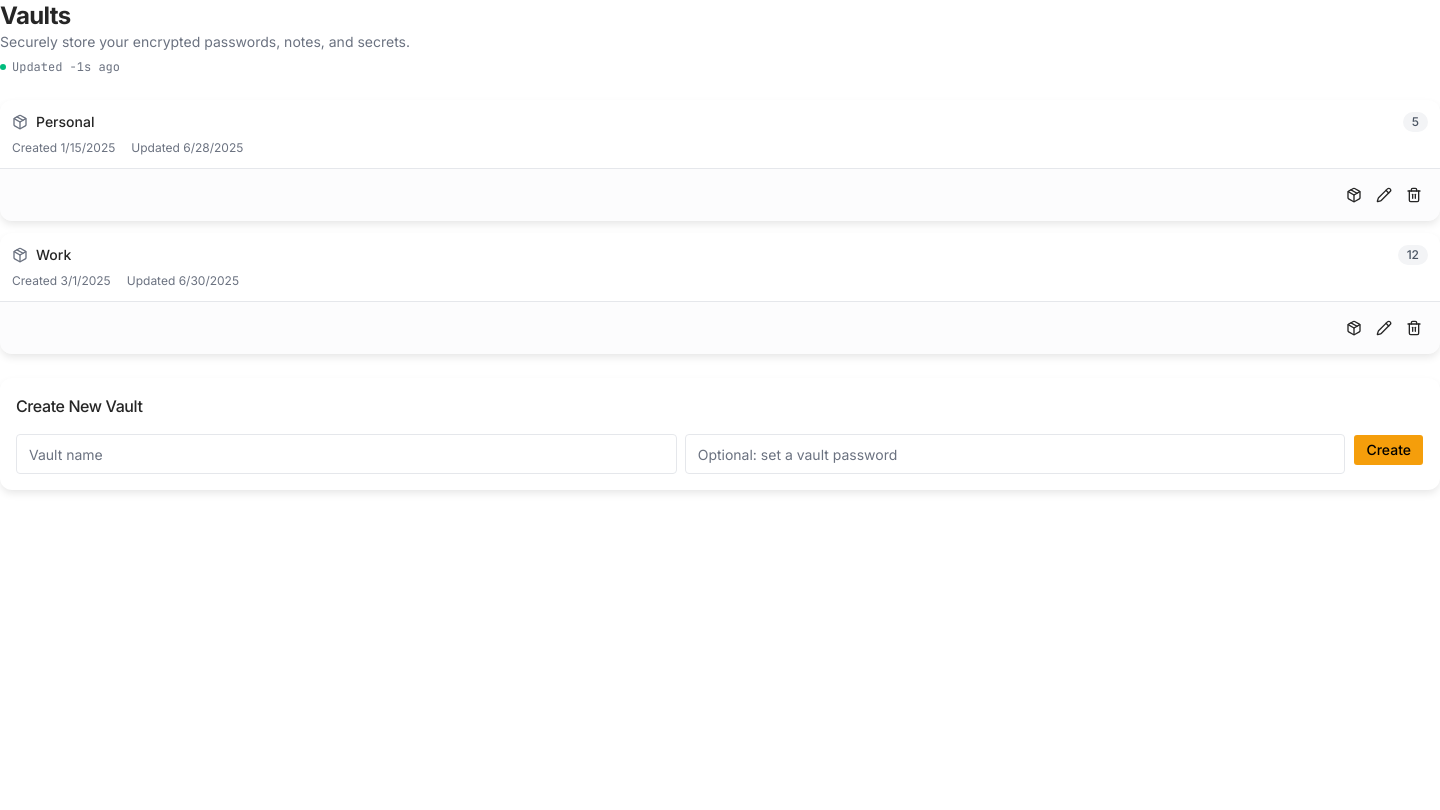
Test: VaultsPage › disable delete forever button until DELETE is typed
Expected: the text "Personal" is shown, [36,112,94,132]
Step 1. Click the 1st button named "Delete vault" → (1414, 195), box [1400,181,1428,209]
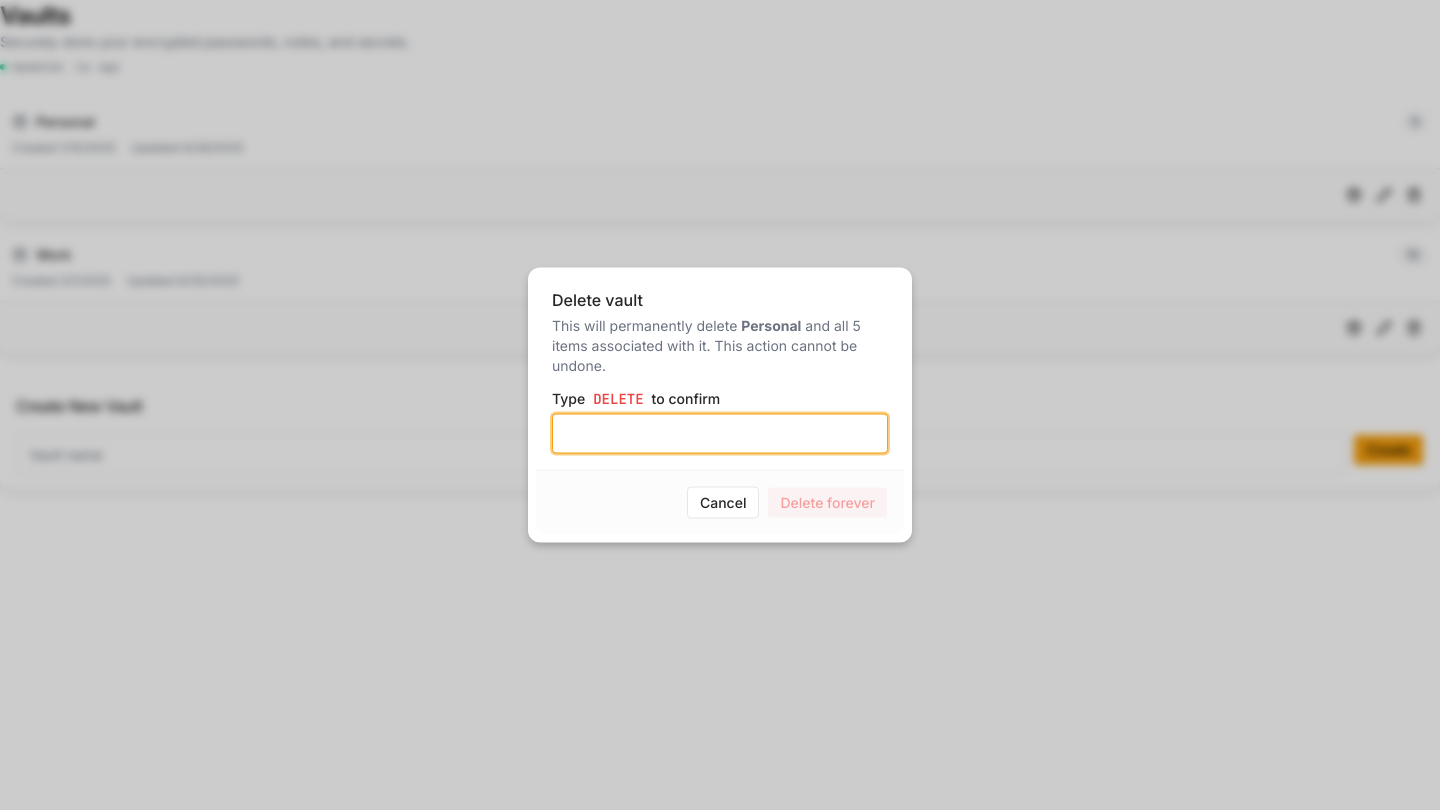
Result: the heading "Delete vault" is shown at [552,290,643,310]
Result: the button "Delete forever" is disabled at [767,486,888,518]
Step 2. Type "DELET" into the field labelled "Type DELETE to confirm" → (720, 434), box [552,414,888,454]
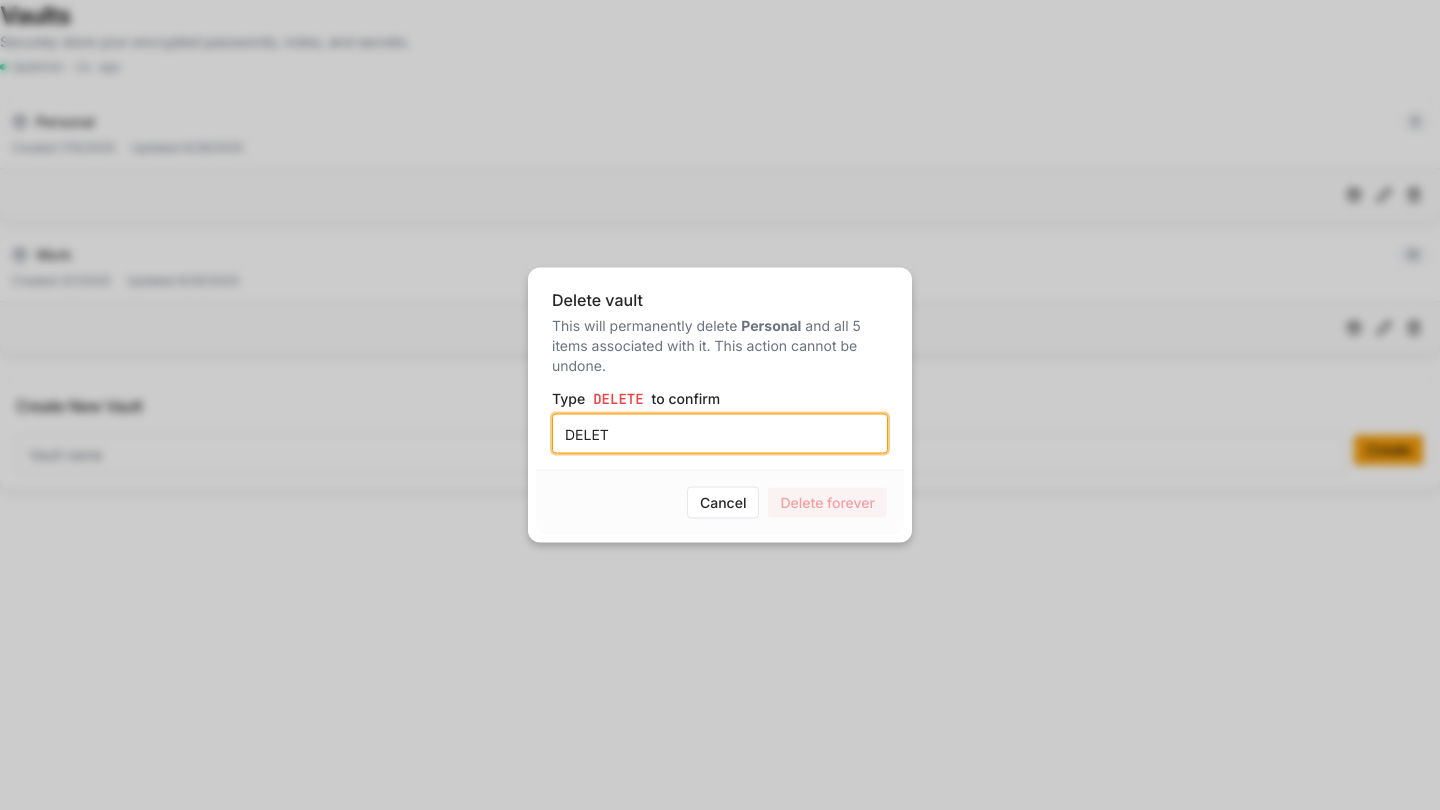
Result: the button "Delete forever" is disabled at [767,486,888,518]
Step 3. Replace the text in the field labelled "Type DELETE to confirm" with "DELETE" → (720, 434), box [552,414,888,454]
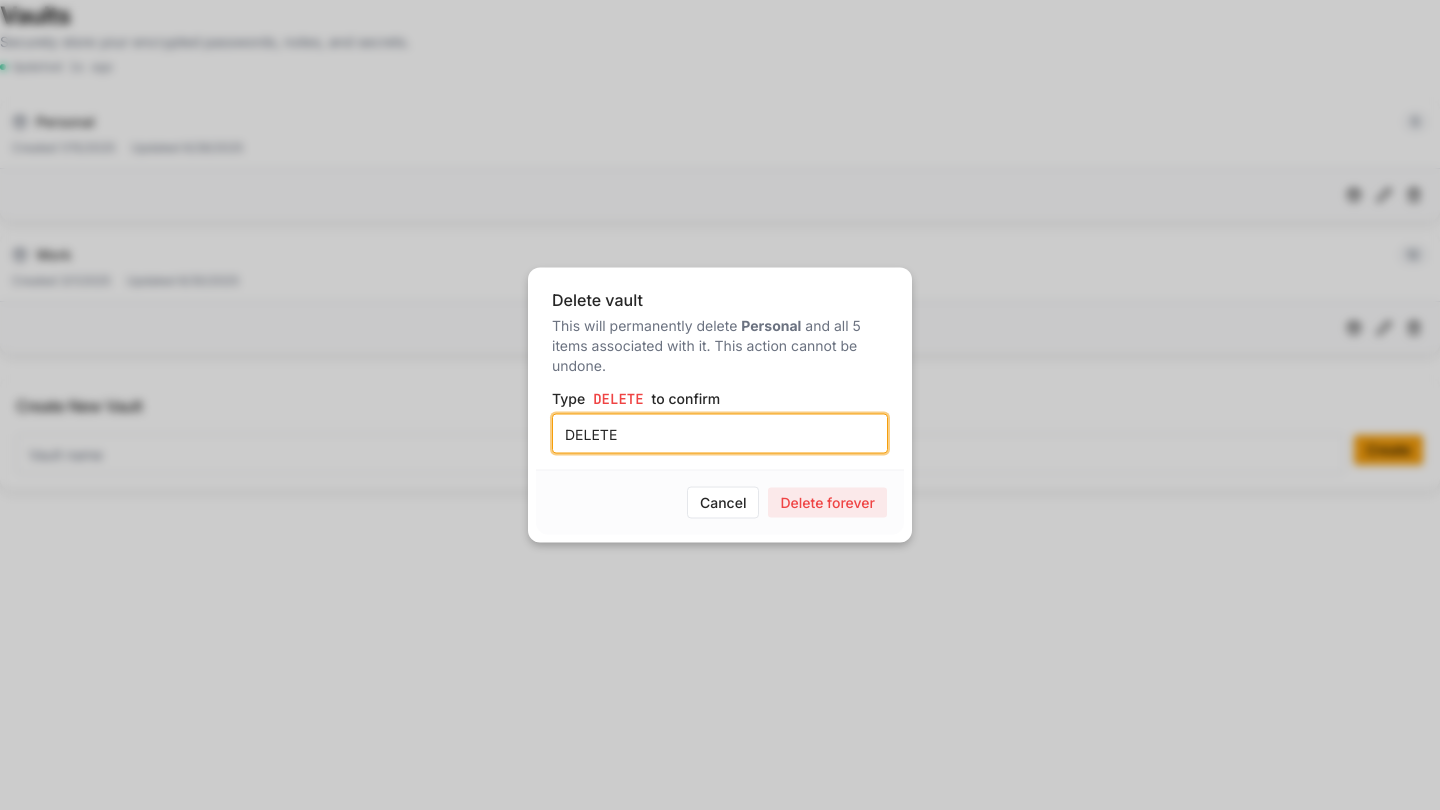
Result: the button "Delete forever" is enabled at [767,486,888,518]
